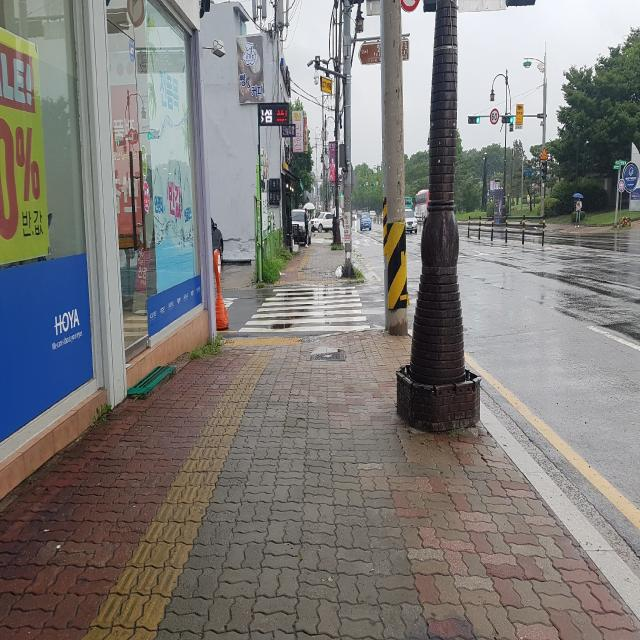횡단보도: (239, 284, 370, 332)
